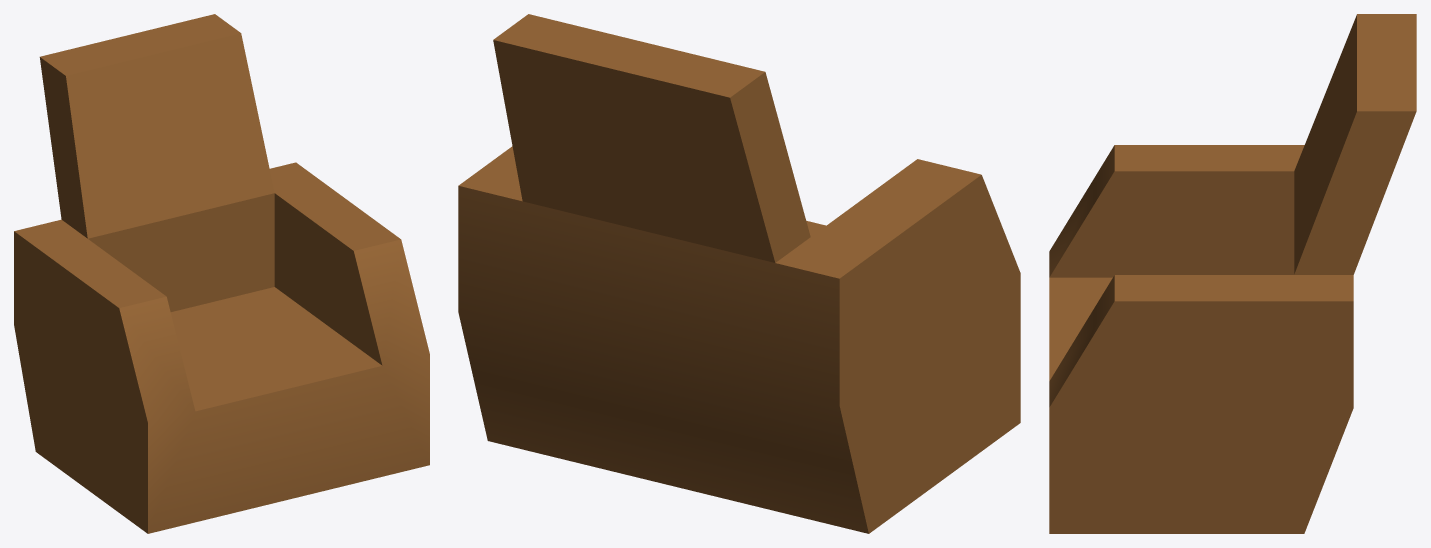
The model's file is poltrona.FBX.
3 renders of one model, left to right at view 1: azimuth 30°, elevation 25°; view 2: azimuth 150°, elevation 25°; view 3: azimuth 270°, elevation 25°, orthographic. The views are drawn at different scales.
Parts seen in each view (by area): view 1: sofa; view 2: sofa; view 3: sofa.
Part boxes in pixels (box(x1,y1,x2,y2)): sofa: box(14, 14, 429, 533); sofa: box(458, 14, 1020, 533); sofa: box(1049, 14, 1416, 533).
Size of the model in its own units: 39.37 by 46.15 by 39.08.
1 material, 1 textured.
